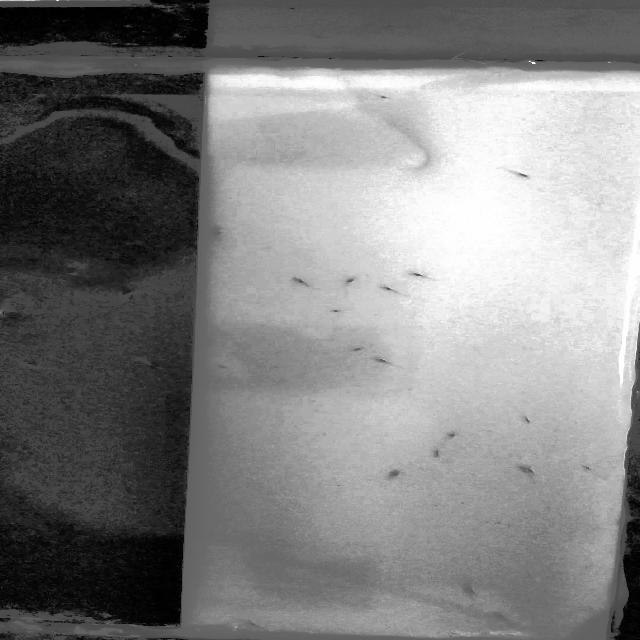shrimp: (333, 264, 363, 288), (373, 354, 412, 368), (480, 609, 515, 623), (292, 272, 318, 289), (388, 464, 412, 481), (508, 166, 532, 182), (568, 460, 595, 474), (378, 284, 403, 299), (361, 90, 395, 101), (518, 415, 546, 427), (350, 342, 372, 357), (522, 463, 542, 478), (458, 582, 483, 594), (208, 231, 235, 240), (325, 306, 354, 314), (443, 430, 465, 440), (406, 269, 424, 281), (244, 616, 268, 625), (424, 448, 448, 456), (216, 364, 238, 372)
